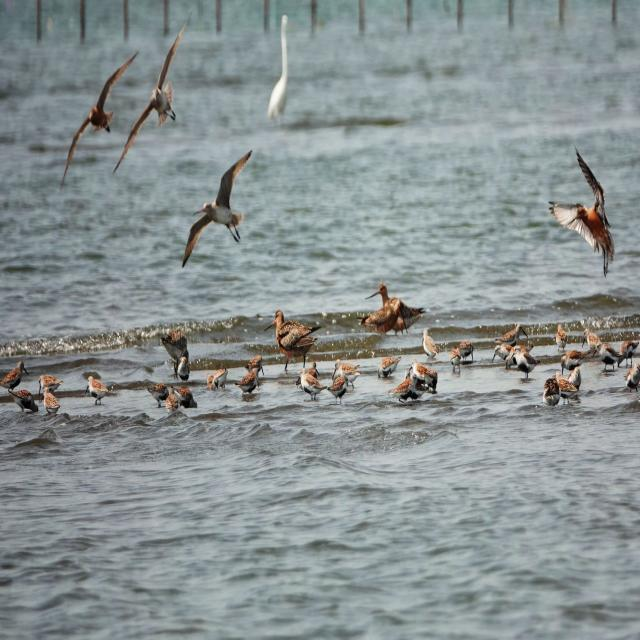bird: (115, 29, 189, 173), (60, 56, 143, 184), (549, 146, 617, 274), (183, 150, 253, 266), (549, 201, 615, 266), (267, 8, 299, 135), (362, 284, 428, 336), (267, 311, 321, 368), (498, 337, 541, 381), (391, 363, 436, 405), (23, 376, 66, 415), (149, 382, 197, 415), (79, 372, 113, 407), (295, 369, 326, 404), (1, 359, 28, 394), (592, 342, 623, 372), (323, 376, 360, 400), (620, 354, 640, 395), (539, 371, 560, 410), (558, 350, 588, 376), (204, 365, 229, 393), (374, 355, 402, 380), (420, 328, 440, 360), (234, 374, 260, 396), (332, 359, 358, 379), (458, 335, 475, 363), (554, 323, 570, 352), (581, 329, 598, 355), (244, 353, 264, 375), (447, 346, 460, 373), (106, 132, 107, 138)
